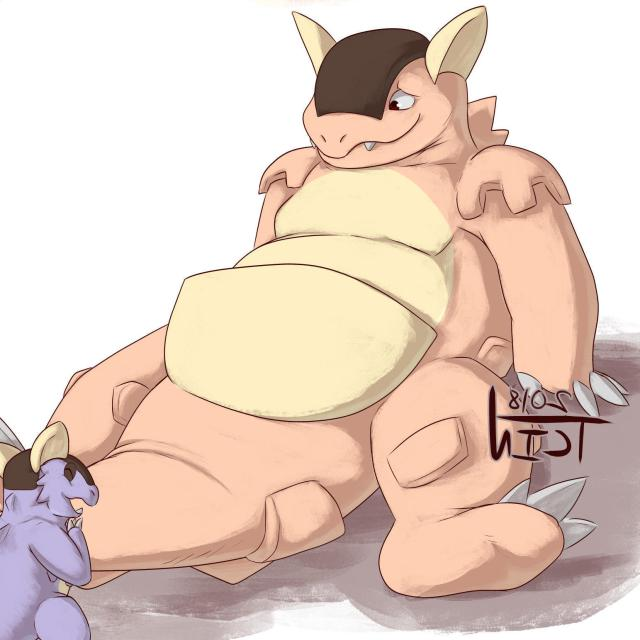Kangaskhan: (83, 28, 552, 557)
